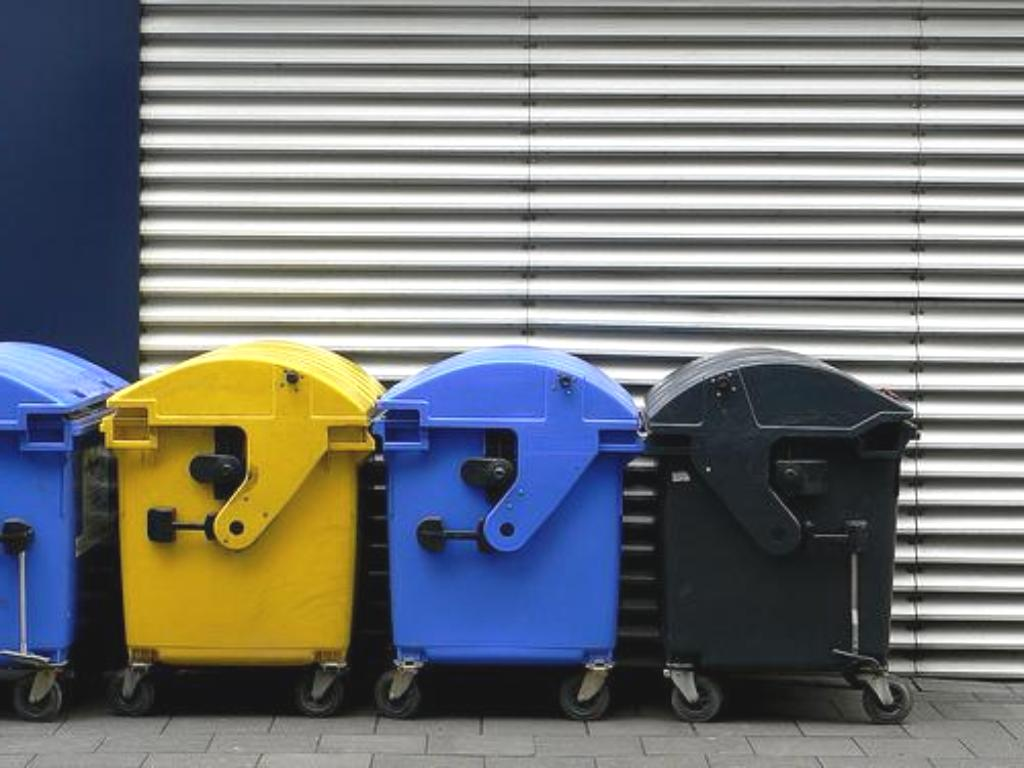dustbin: (94, 336, 385, 738), (640, 341, 925, 718), (365, 337, 645, 718)
